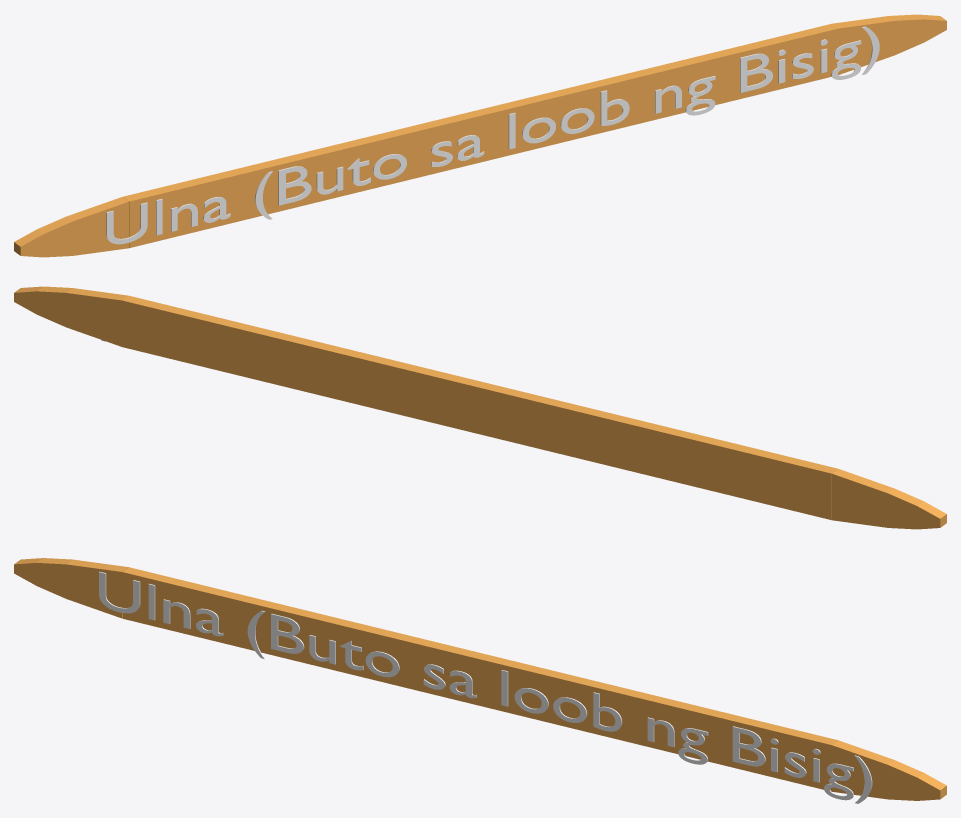
The model's file is txtUlna.fbx.
The picture shows the model from 3 angles, top to bottom: view 1: azimuth 30°, elevation 25°; view 2: azimuth 150°, elevation 25°; view 3: azimuth 330°, elevation 25°; orthographic projection.
Parts seen in each view (by area): view 1: TagContainer.053, Text.054; view 2: TagContainer.053; view 3: TagContainer.053, Text.054.
Part boxes in pixels (x1=…): TagContainer.053: x1=14, y1=14, x2=946, y2=257; Text.054: x1=106, y1=26, x2=879, y2=244; TagContainer.053: x1=14, y1=286, x2=946, y2=529; TagContainer.053: x1=14, y1=558, x2=946, y2=800; Text.054: x1=99, y1=571, x2=872, y2=803.
Size of the model in its own units: 859 by 45.81 by 11.79.
